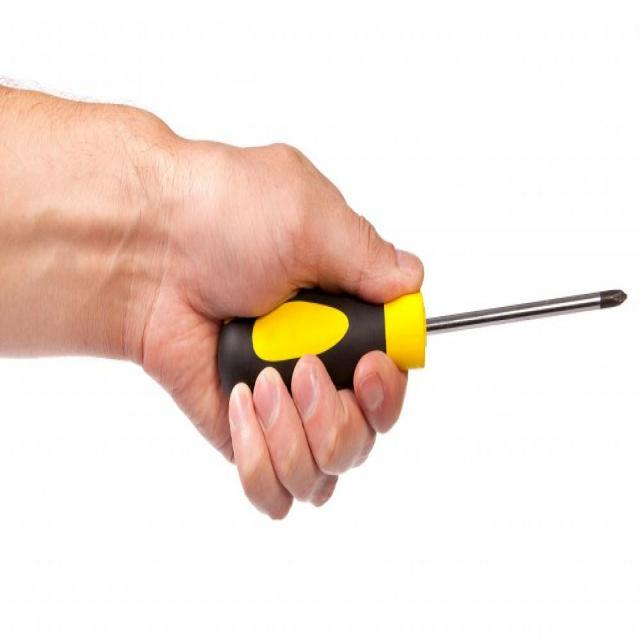screwdriver: (213, 270, 630, 398)
